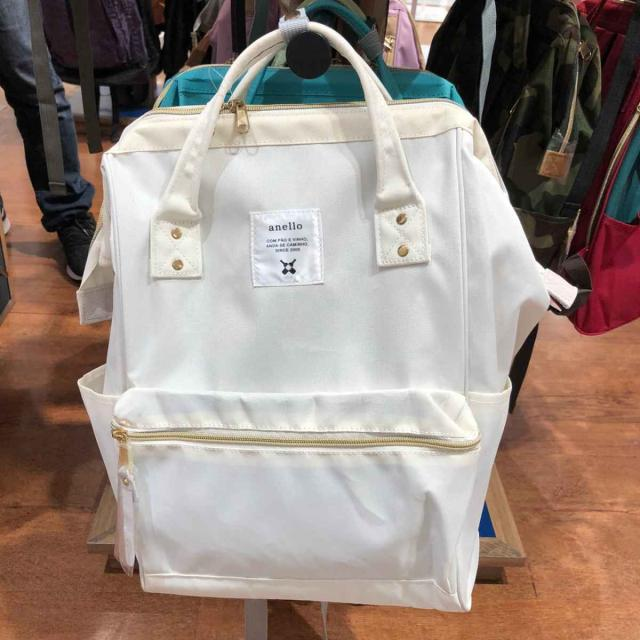bag: (64, 15, 596, 630)
